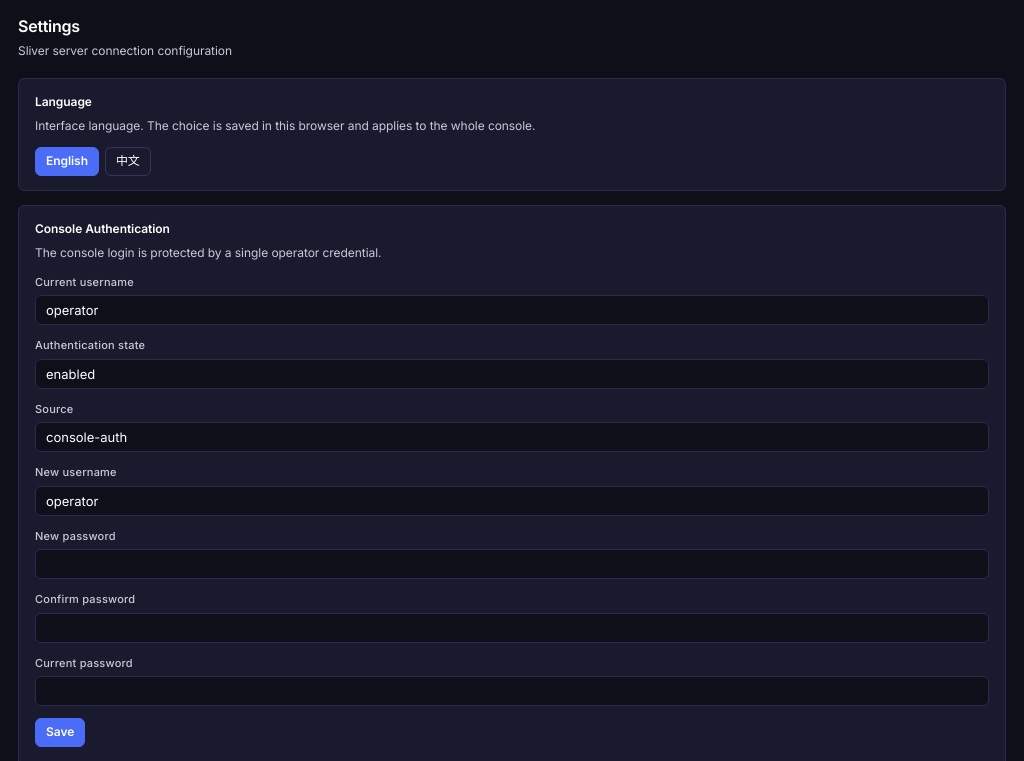
Scenario: SettingsPage console authentication panel › saves a valid change and tells the operator it takes effect immediately
Expected: the password field labelled "New password" is shown, [35,549,989,579]
Replace the text in the field labelled "New username" with "newop" at (512, 501), box [35,486,989,516]
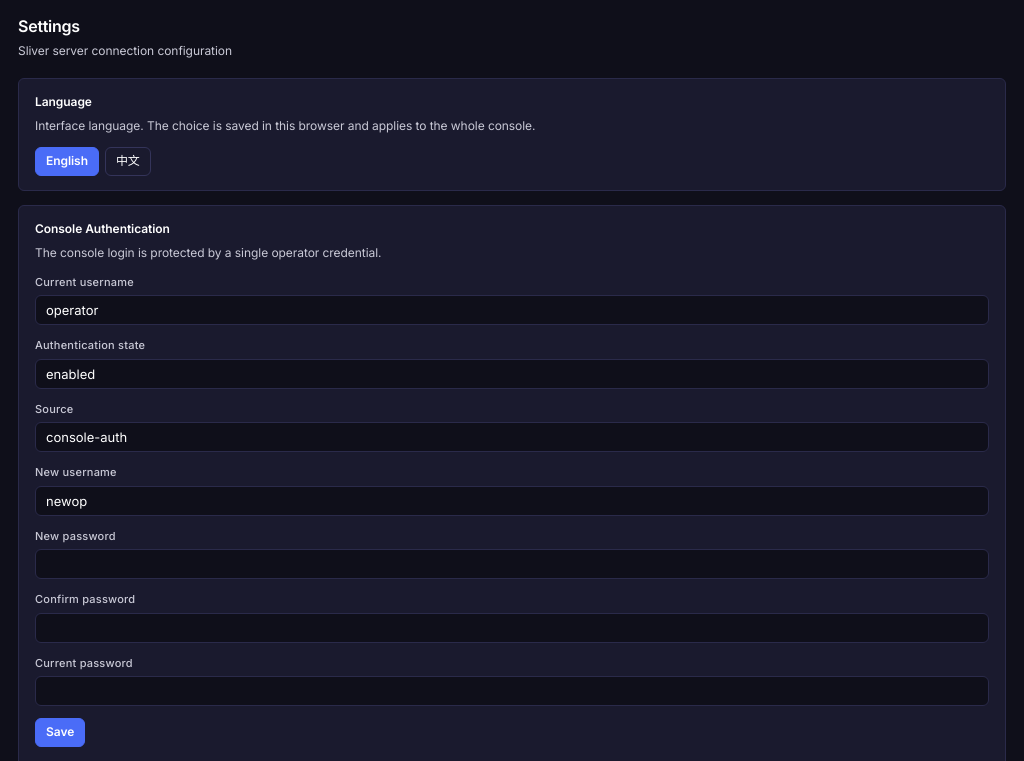
Type "longenough1" into the password field labelled "New password" at (512, 564), box [35,549,989,579]
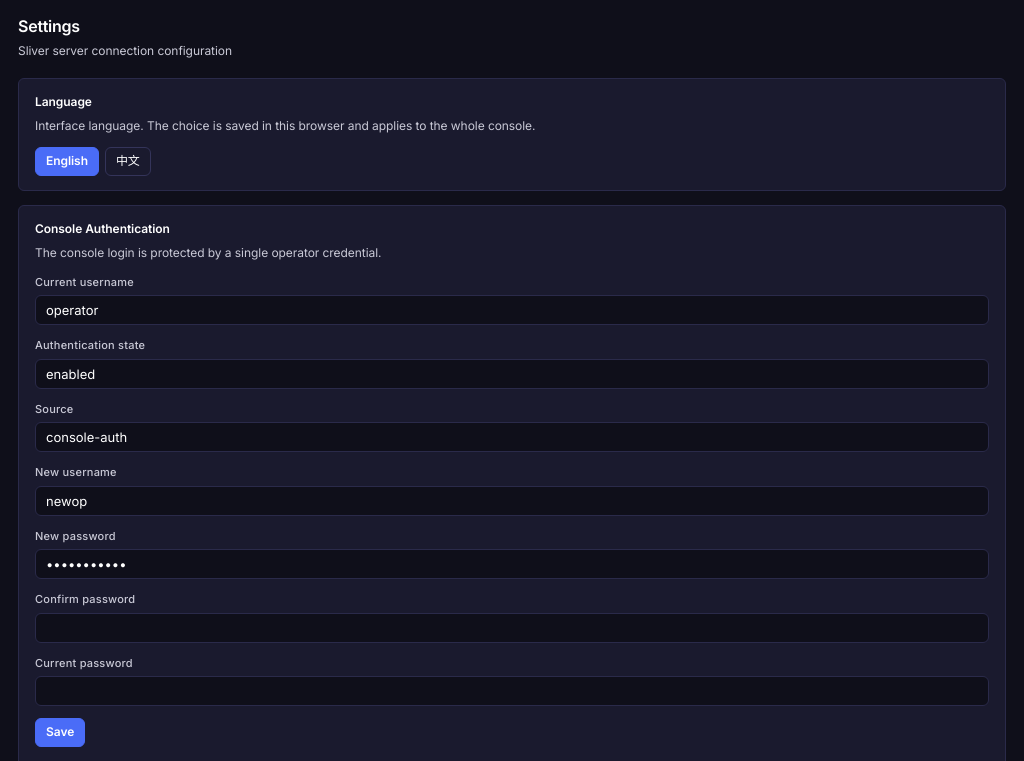
Type "longenough1" into the password field labelled "Confirm password" at (512, 628), box [35,613,989,643]
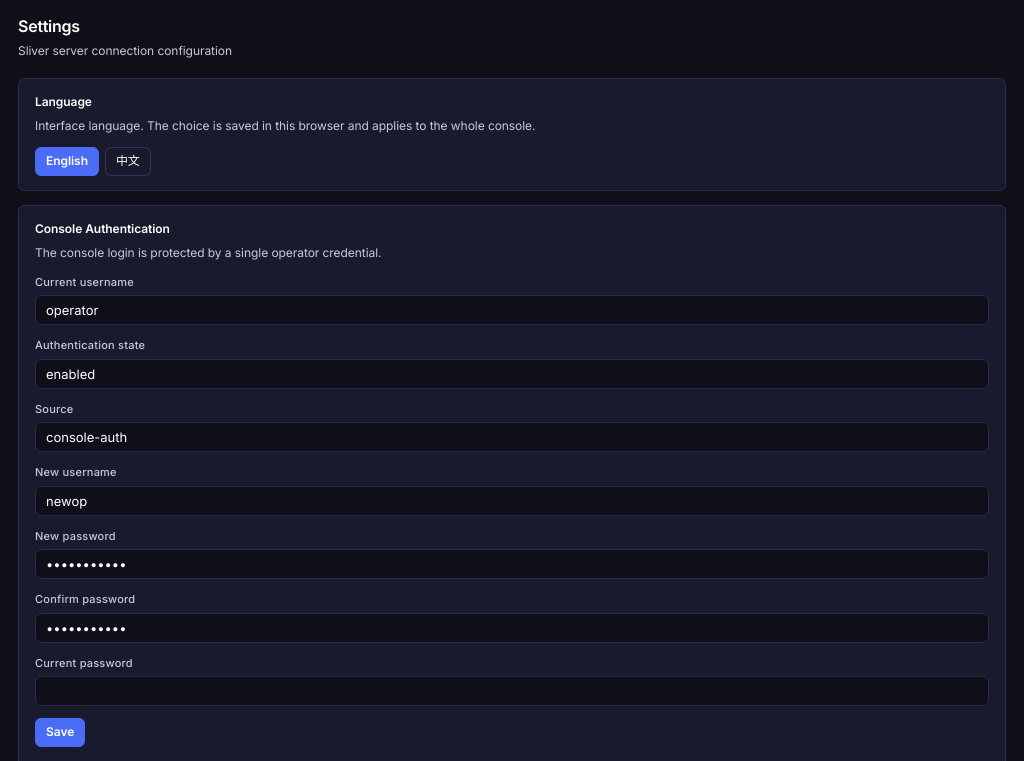
Type "old-secret" into the password field labelled "Current password" at (512, 691), box [35,676,989,706]
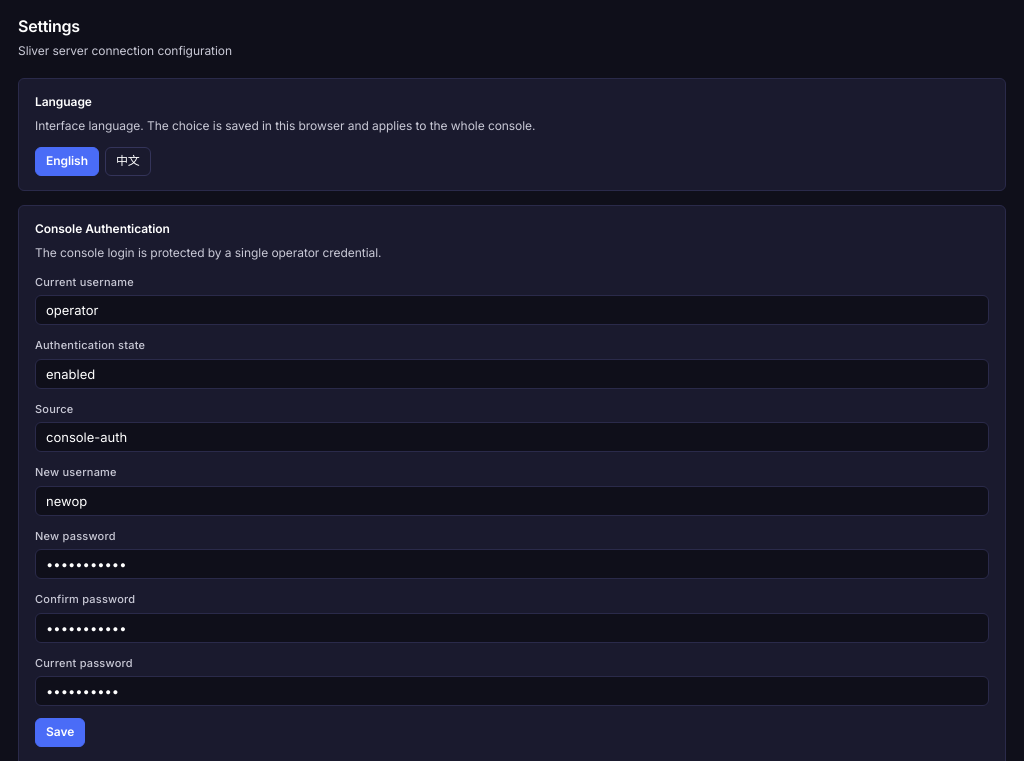
Click the button "Save" at (60, 733), box [35,718,85,747]
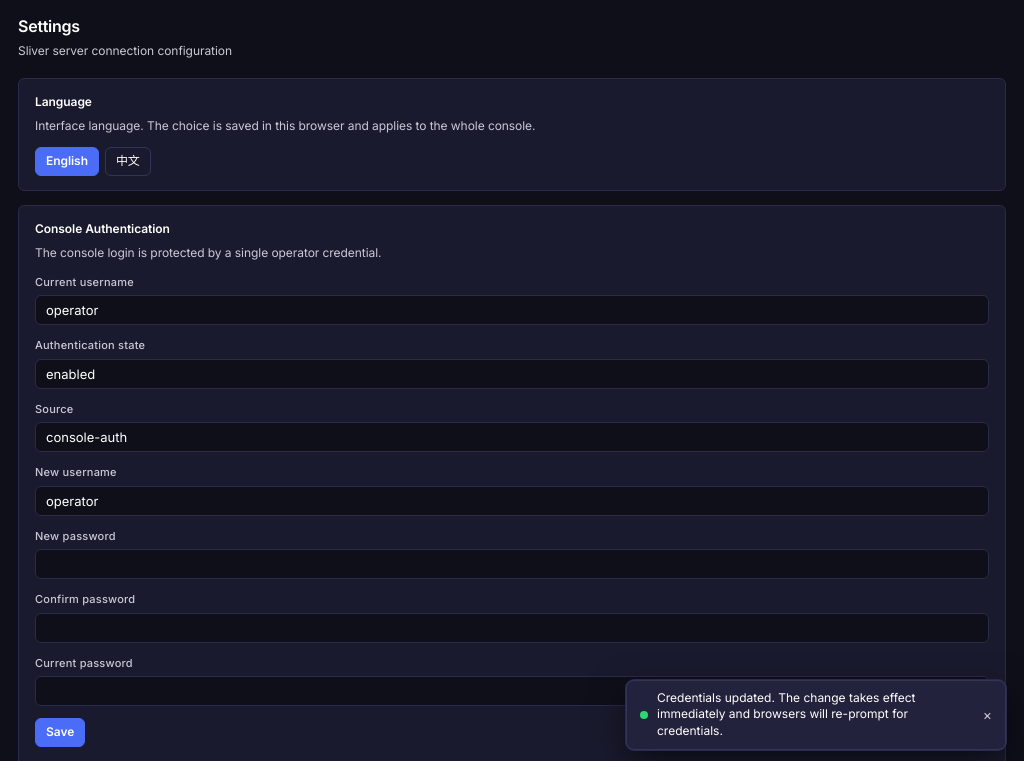
Now the text "browsers will re-prompt for credentials" is shown, box [657,690,916,738]
